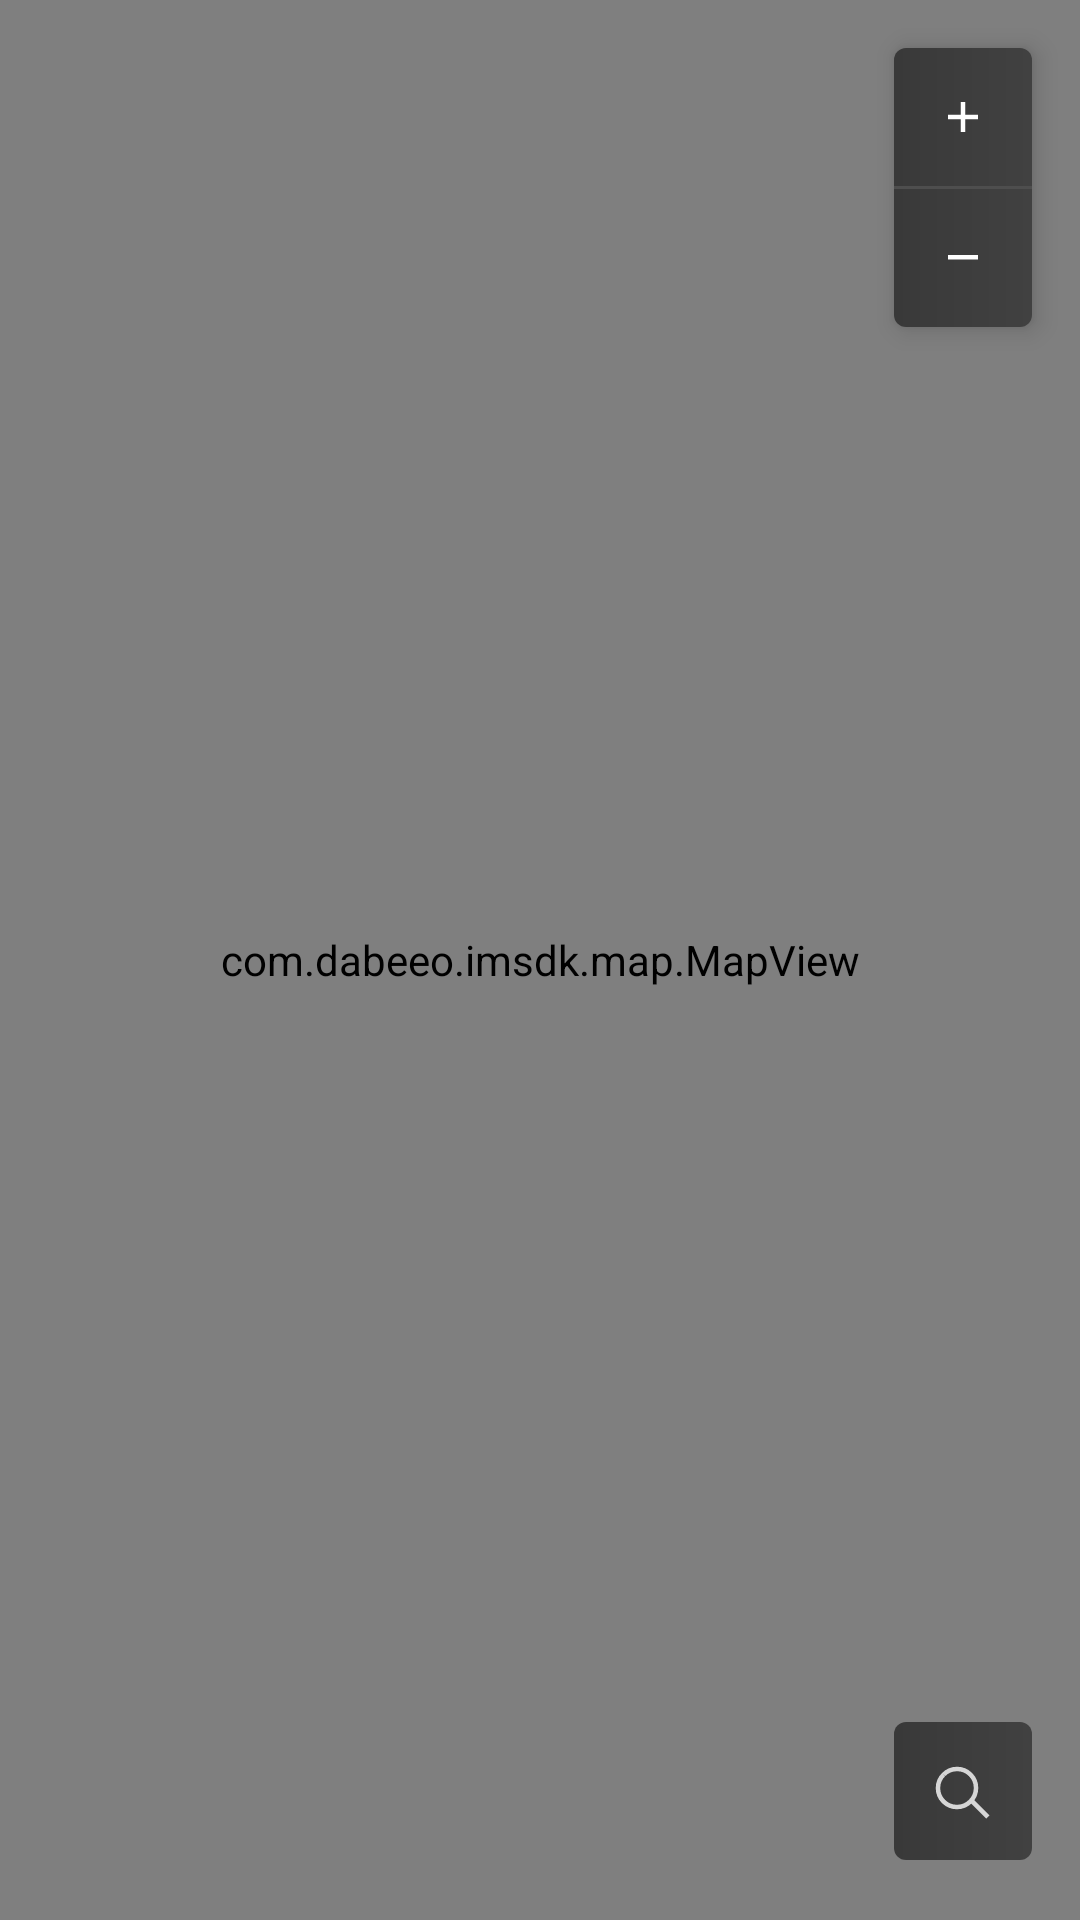

Icons on this 1080x1920 Android screen, each with its box as bbox=[x1, y1, x2, y2]:
search: bbox=[894, 1722, 1032, 1860]
zoom in: bbox=[894, 48, 1032, 186]
zoom out: bbox=[894, 189, 1032, 327]
